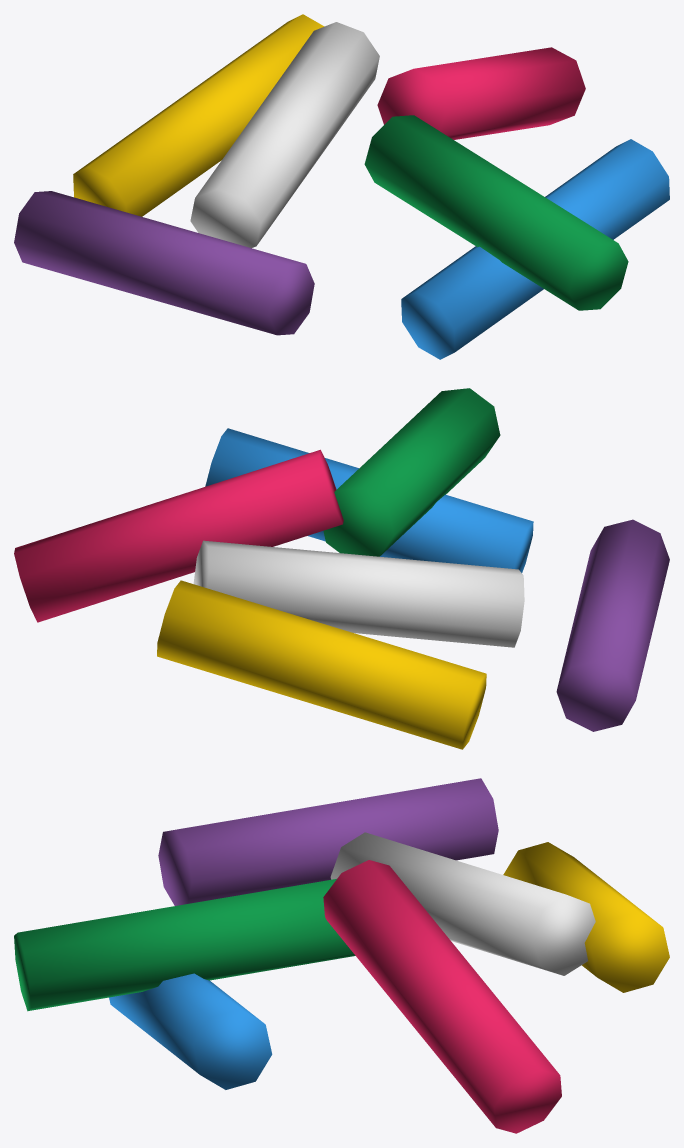
The model's file is Sprinkles.fbx.
The picture shows the model from 3 angles, top to bottom: view 1: azimuth 30°, elevation 25°; view 2: azimuth 150°, elevation 25°; view 3: azimuth 270°, elevation 25°; orthographic projection. The views are drawn at different scales.
Visible parts, largest first — view 1: Sprinkles; view 2: Sprinkles; view 3: Sprinkles.
Boxes of the visible parts, x1,y1,x2,y2 form: Sprinkles: (14, 14, 669, 359); Sprinkles: (14, 388, 669, 749); Sprinkles: (14, 778, 669, 1133).
Size of the model in its own units: 21.48 by 6.69 by 19.59.
